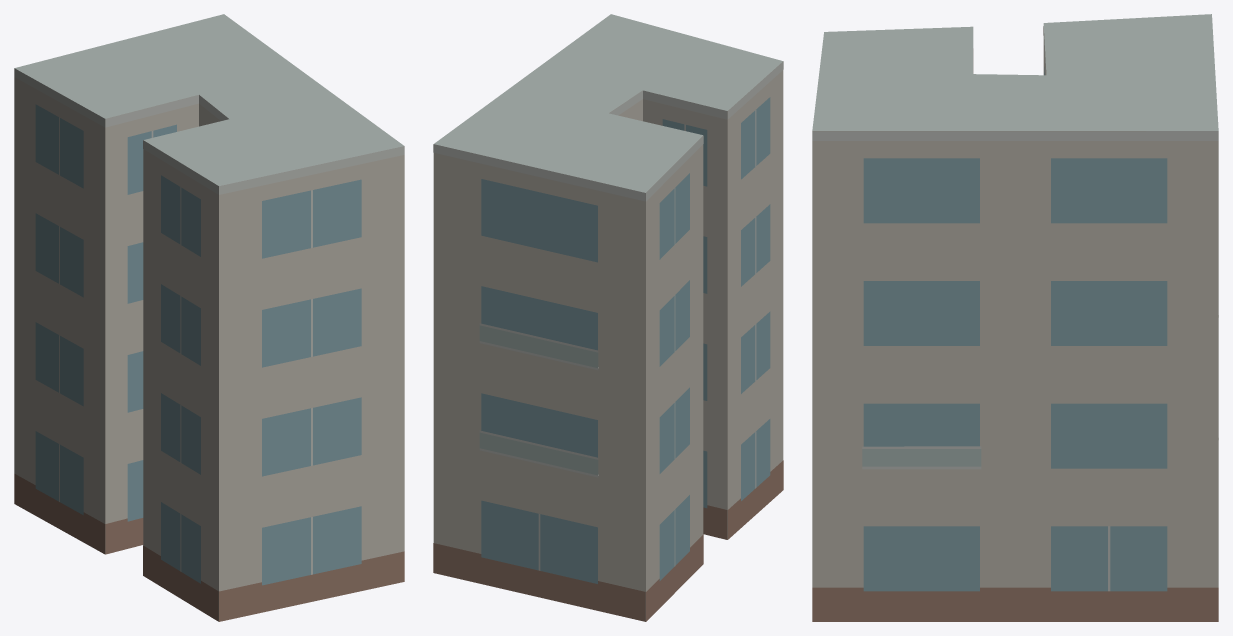
The model's file is survey-upis-32961333.glb.
The picture shows the model from 3 angles, left to right: view 1: azimuth 30°, elevation 25°; view 2: azimuth 150°, elevation 25°; view 3: azimuth 270°, elevation 25°; orthographic projection. The views are drawn at different scales.
Visible parts, largest first — view 1: survey-upis-32961333.tmp; view 2: survey-upis-32961333.tmp; view 3: survey-upis-32961333.tmp.
Boxes of the visible parts, <box> form: survey-upis-32961333.tmp: <box>14,14,404,621</box>; survey-upis-32961333.tmp: <box>433,14,783,621</box>; survey-upis-32961333.tmp: <box>812,14,1218,621</box>.
Size of the model in its own units: 6.23 by 12.1 by 9.09.
